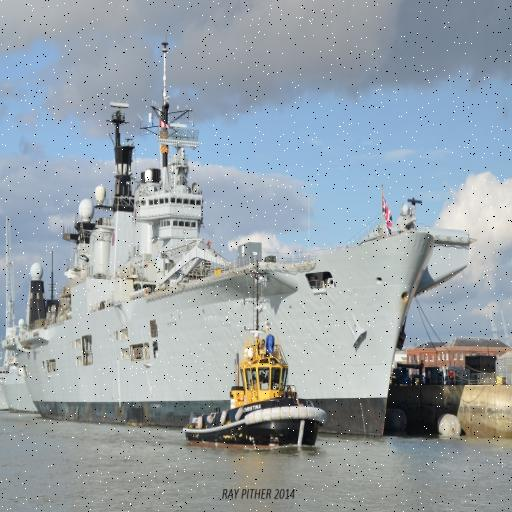Portanaves: (8, 24, 476, 443)
